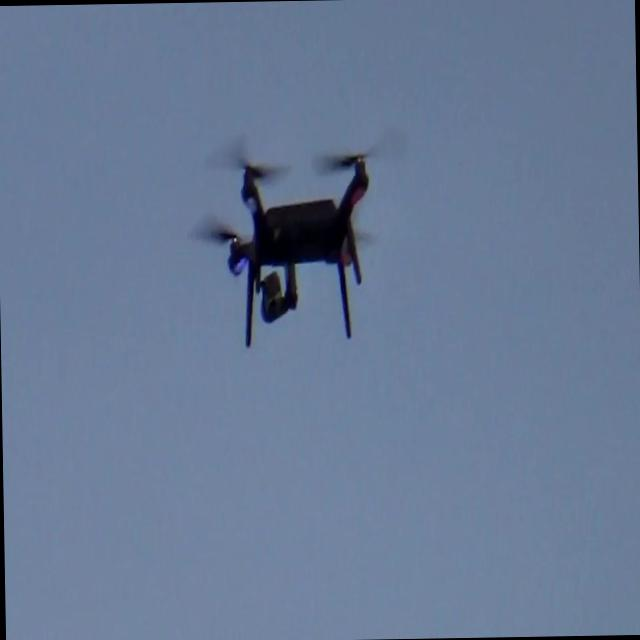drone: (197, 135, 393, 350)
